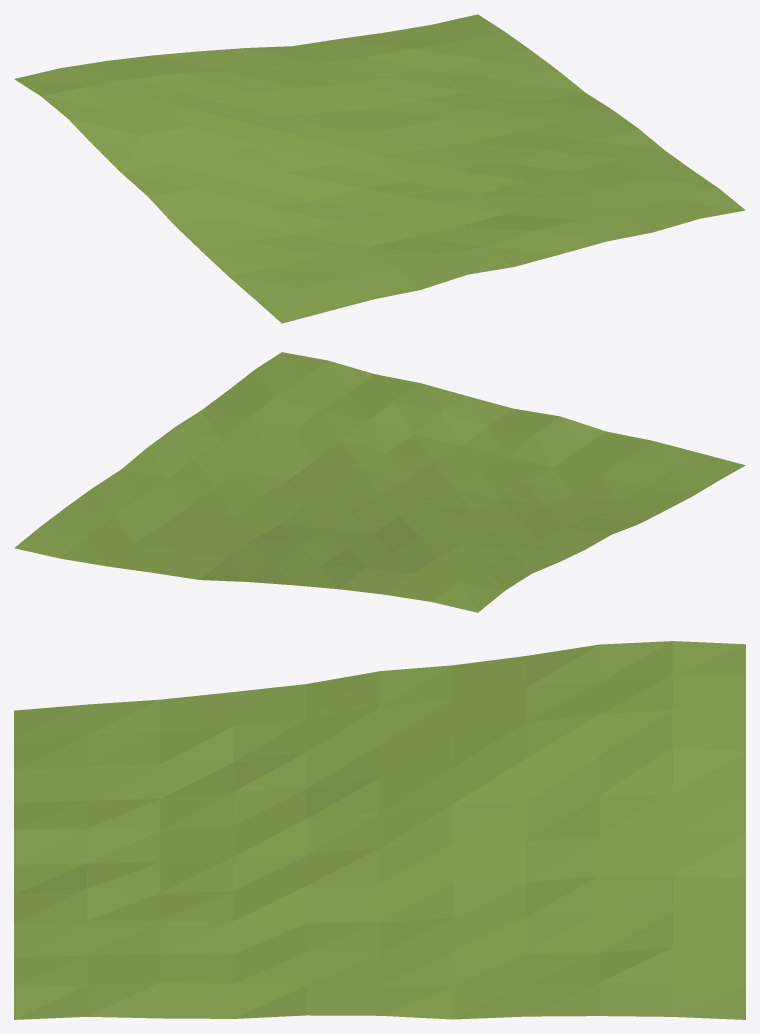
Rendered from terrain-plane_02-2.fbx.
3 renders of one model, top to bottom at view 1: azimuth 30°, elevation 25°; view 2: azimuth 150°, elevation 25°; view 3: azimuth 270°, elevation 25°, orthographic. The views are drawn at different scales.
Visible parts, largest first — view 1: terrain-plane_02-2; view 2: terrain-plane_02-2; view 3: terrain-plane_02-2.
Boxes of the visible parts, box(x1,y1,x2,y2) form: terrain-plane_02-2: box(14, 14, 745, 323); terrain-plane_02-2: box(14, 352, 745, 612); terrain-plane_02-2: box(14, 641, 745, 1019).
Bounding box in the file's own units: 2000 × 211 × 2000.
